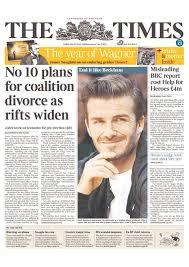Printing industry: (2, 6, 189, 267)
